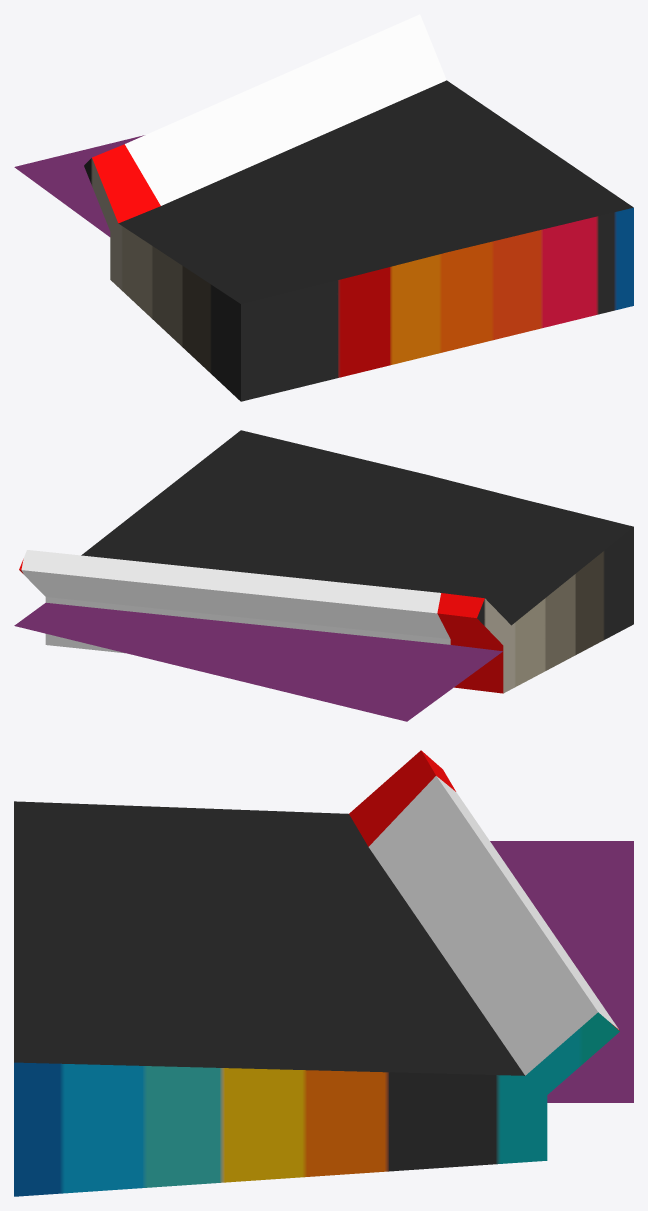
The model's file is tile_14_0_10.gltf.
3 views of the same model, one above another, from view 1: azimuth 30°, elevation 25°; view 2: azimuth 150°, elevation 25°; view 3: azimuth 270°, elevation 25° (orthographic). The views are drawn at different scales.
Visible parts, largest first — view 1: track.179, Plane; view 2: track.179, Plane; view 3: track.179, Plane.
Boxes of the visible parts, x1=… form: track.179: x1=84, y1=14, x2=633, y2=401; Plane: x1=14, y1=135, x2=144, y2=236; track.179: x1=19, y1=430, x2=633, y2=693; Plane: x1=14, y1=602, x2=502, y2=721; track.179: x1=14, y1=750, x2=619, y2=1196; Plane: x1=490, y1=841, x2=633, y2=1102.
Bounding box in the file's own units: 8 × 2.63 × 8.
1 material, 1 textured.
